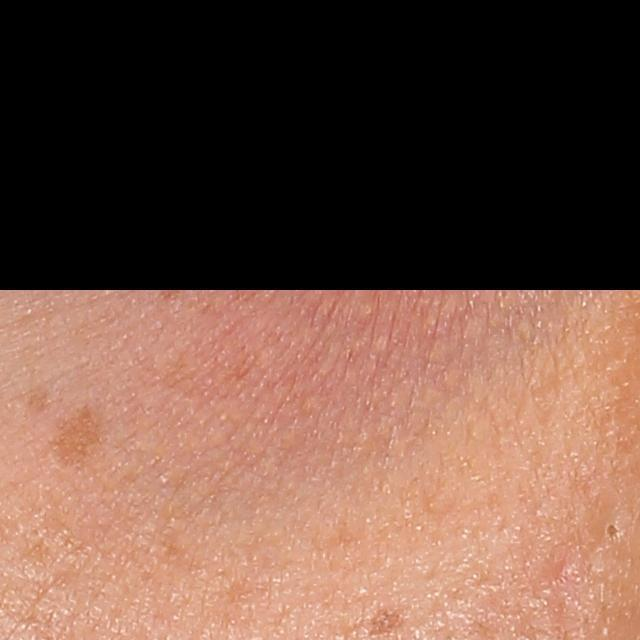comedo: (604, 517, 625, 543)
melasma: (43, 405, 111, 473)
